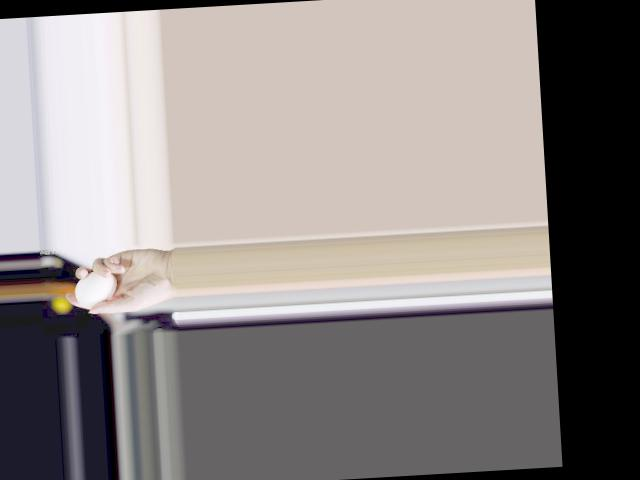egg: (73, 270, 117, 307)
